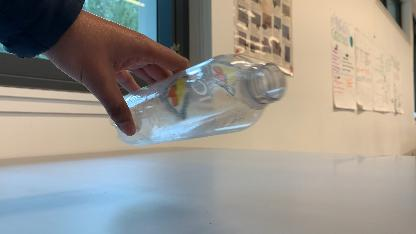Plastic Bottle: (110, 54, 294, 150)
